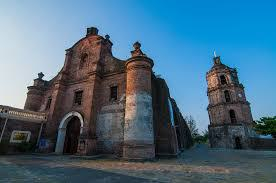Sta. Maria Church: (23, 24, 156, 161)
Unfinished Paint: (103, 97, 156, 141)
